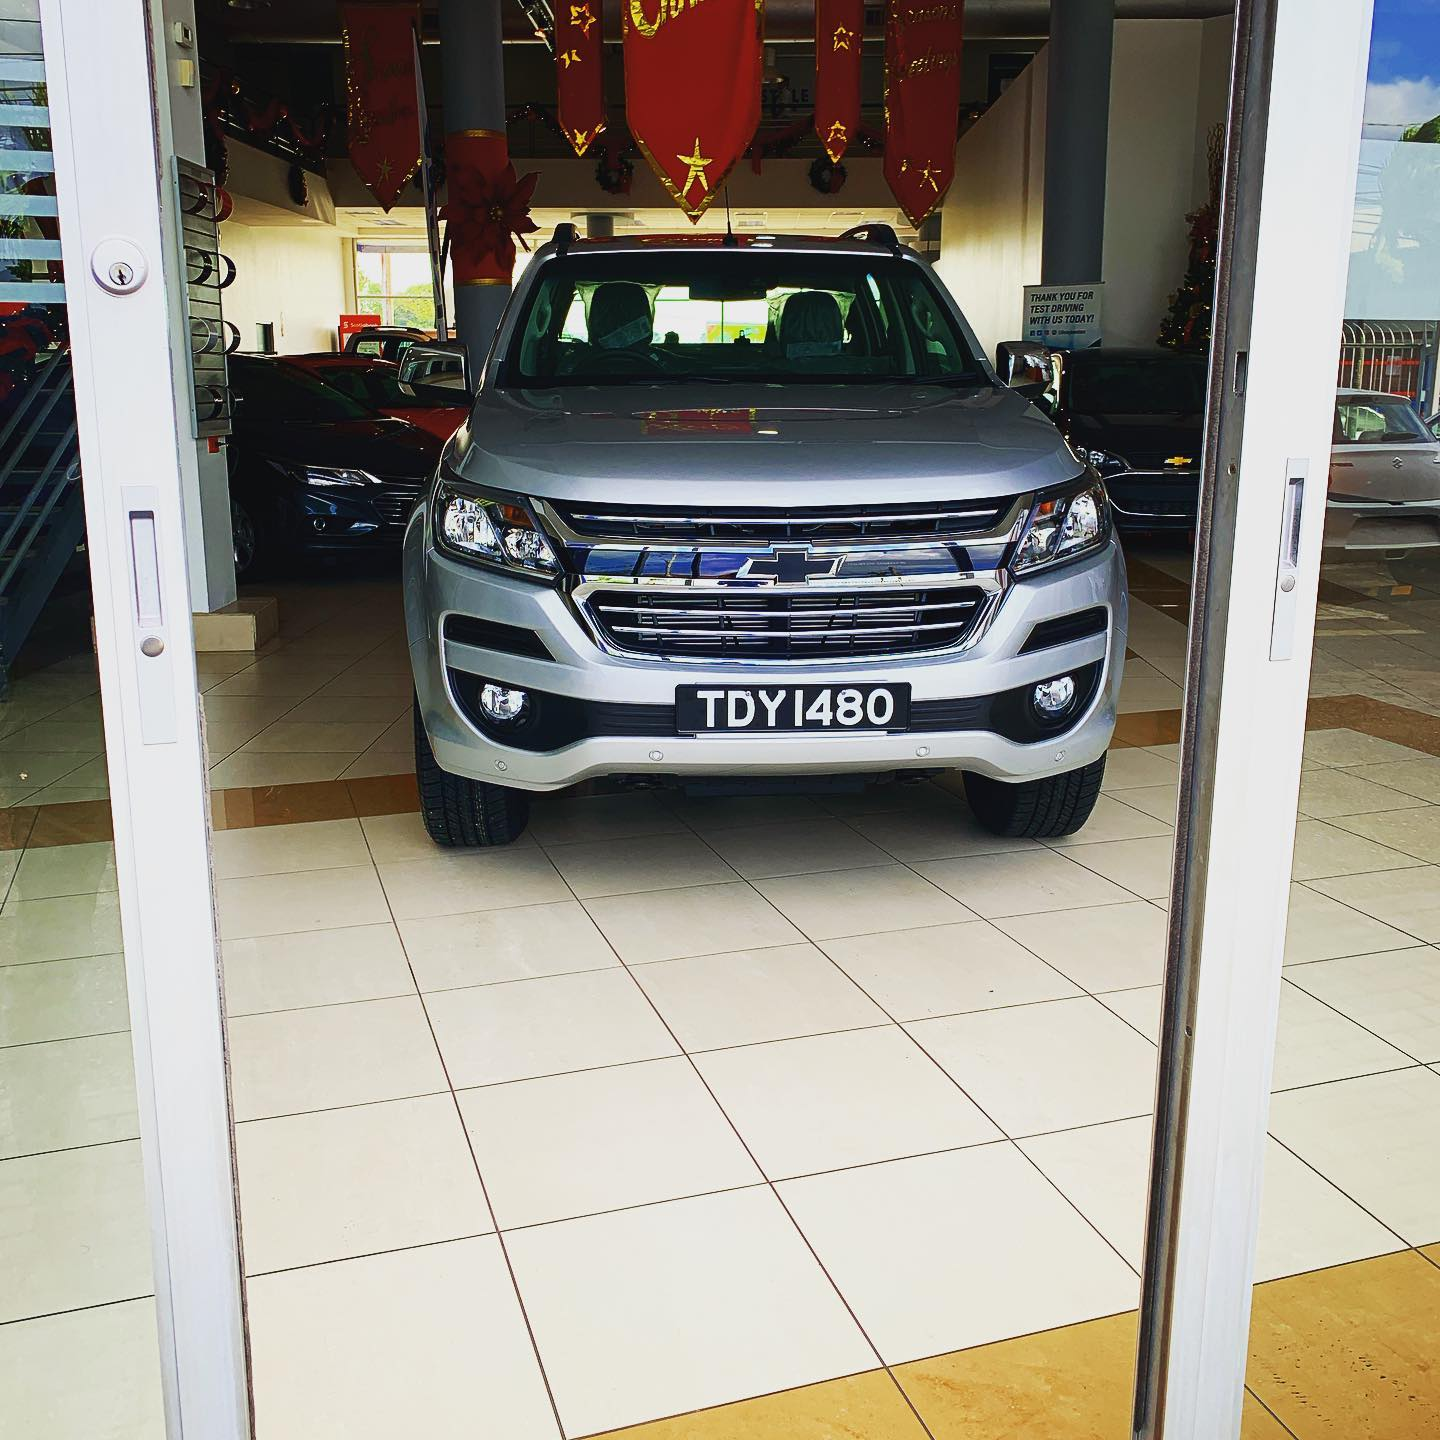License-Plate: (676, 684, 908, 729)
